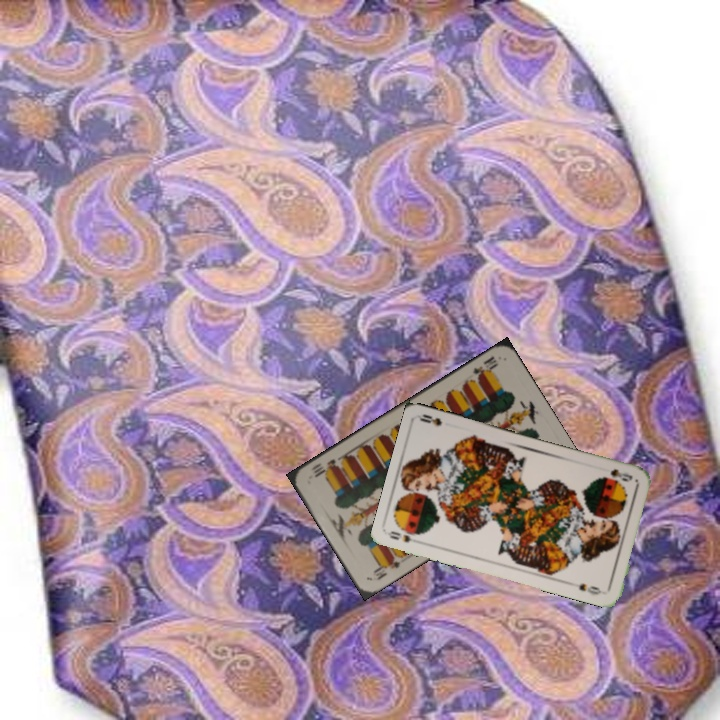E10: (368, 554, 403, 583), (469, 352, 501, 382)
SO: (606, 465, 635, 484), (385, 527, 413, 545)
